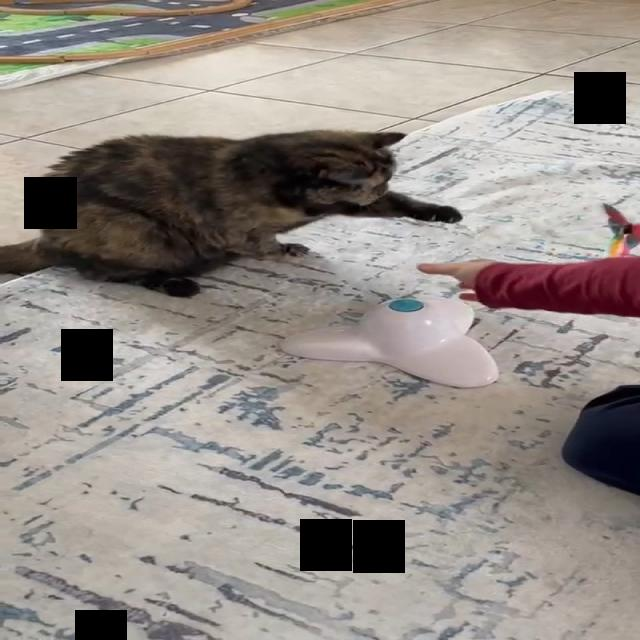authorized: (0, 128, 463, 298)
